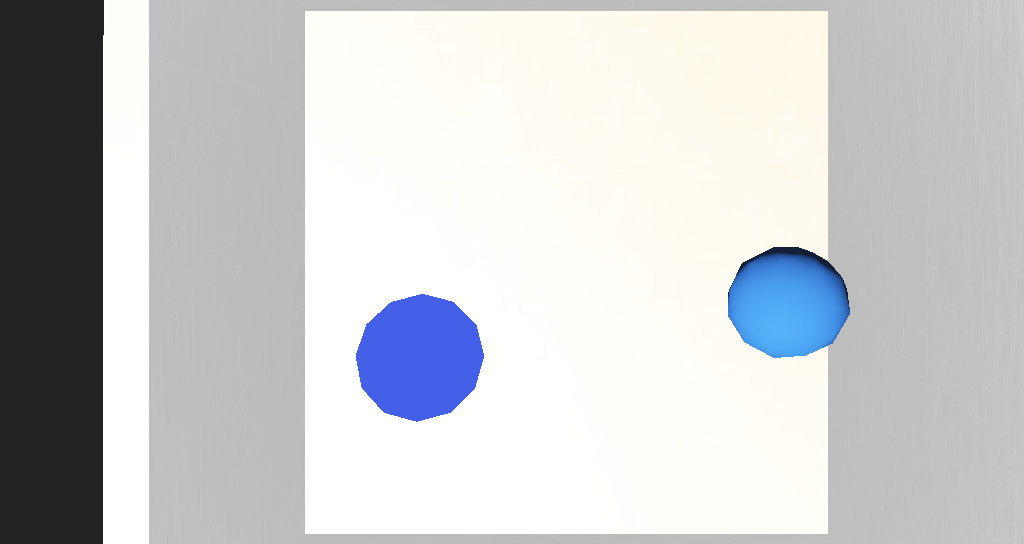cone: (495, 43, 556, 110)
cylinder: (391, 277, 458, 334)
sphere: (596, 260, 657, 303)
